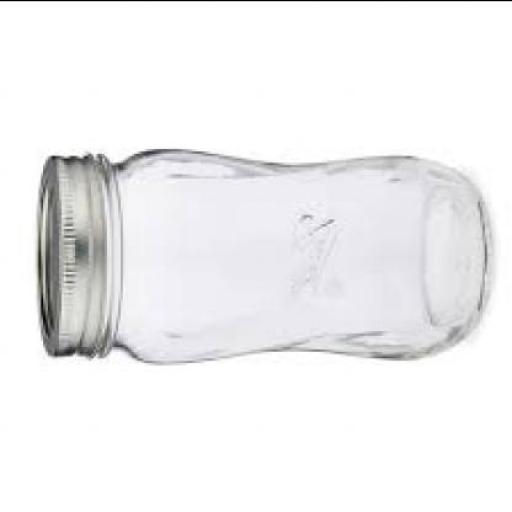glass: (90, 145, 490, 362)
metal: (34, 152, 105, 354)
